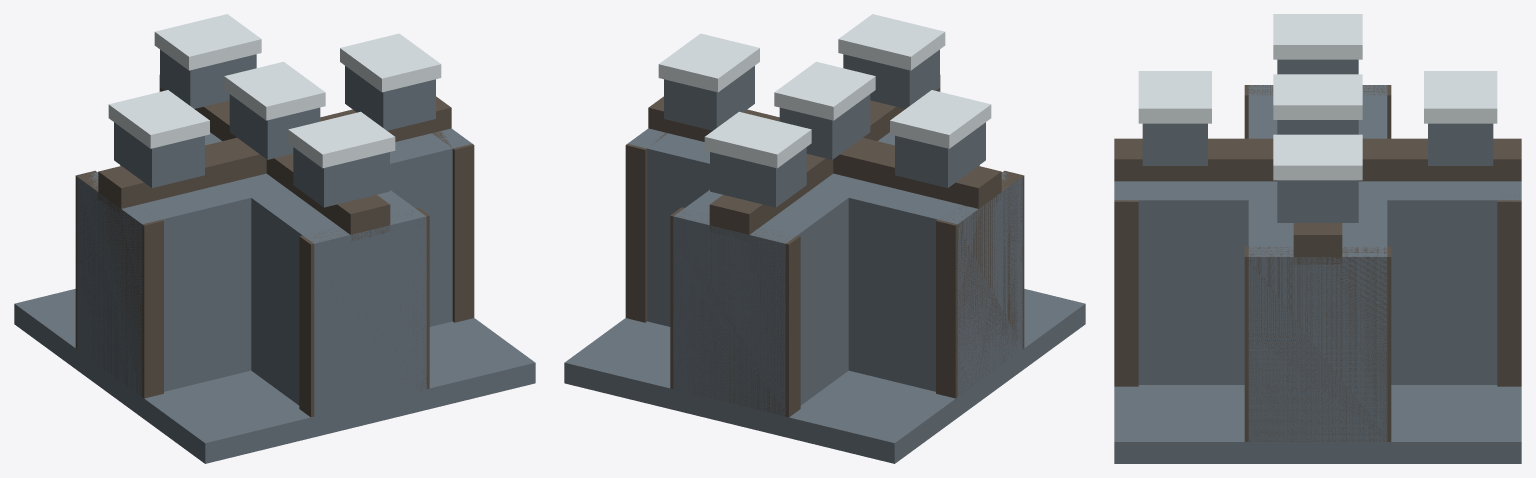
The model's file is wall.glb.
3 views of the same model, side by side, from view 1: azimuth 30°, elevation 25°; view 2: azimuth 150°, elevation 25°; view 3: azimuth 270°, elevation 25° (orthographic). The views are drawn at different scales.
Visible parts, largest first — view 1: wall; view 2: wall; view 3: wall.
Boxes of the visible parts, left/top/right/bottom form: wall: left=14, top=14, right=535, bottom=463; wall: left=564, top=14, right=1085, bottom=463; wall: left=1114, top=14, right=1521, bottom=463.
Bounding box in the file's own units: 1 × 0.78 × 1.
1 material, 1 textured.
